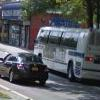buses: (33, 25, 100, 84)
